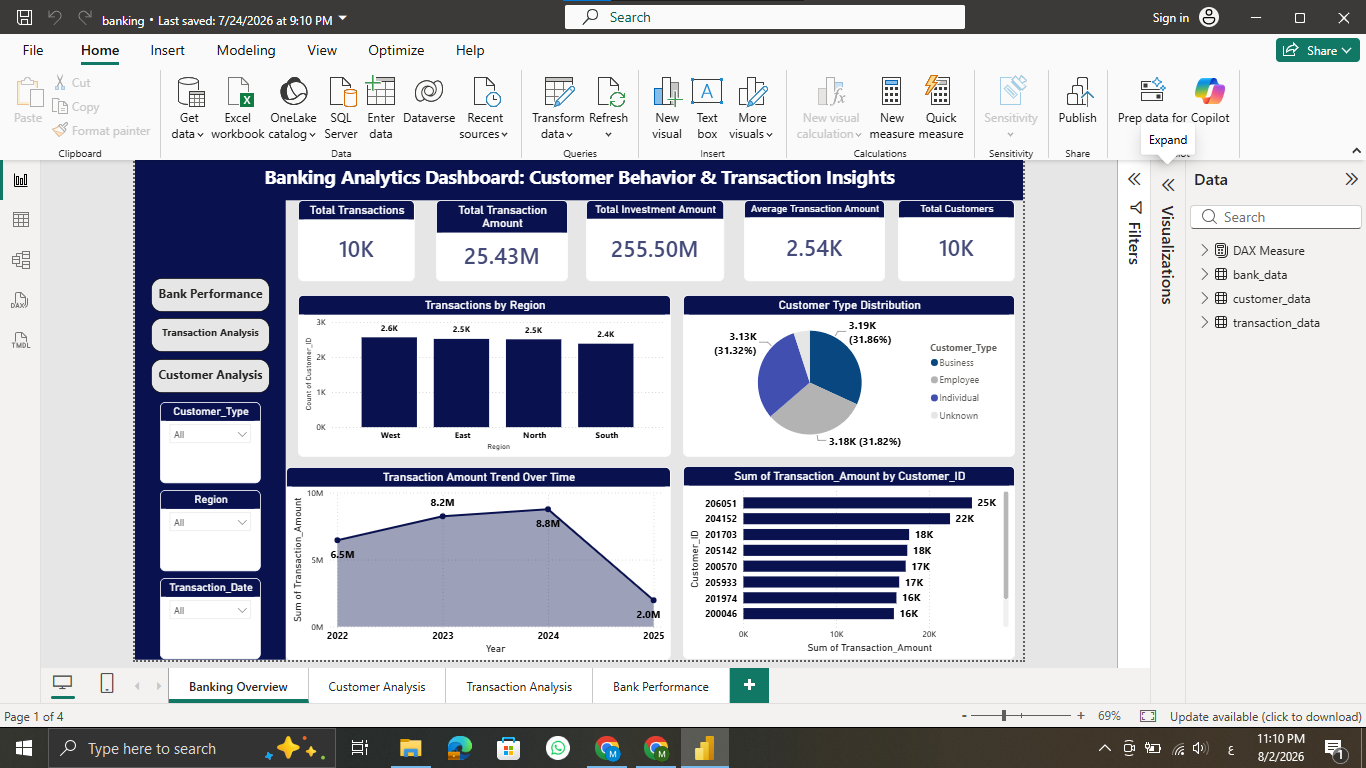

This screenshot's page, from the dashboard's own definition file:
{"tool":"powerbi","page":{"name":"Banking Overview","canvas":[1280,720],"ordinal":0},"visuals":[{"type":"textbox","box":[0,57.6,217.4,662.4],"z":0},{"type":"textbox","box":[0,0,1280.2,57.6],"z":1000},{"type":"cardVisual","title":"Total Transactions","fields":{"Data":["DAX Measure.Total Transactions"]},"box":[234.7,57.6,168.5,116.6],"z":2000},{"type":"cardVisual","title":"Total Customers","fields":{"Data":["DAX Measure.Total Customers"]},"box":[1098.7,57.6,168.5,116.6],"z":3000},{"type":"cardVisual","title":"Total Transaction Amount","fields":{"Data":["DAX Measure.Total Transaction Amount"]},"box":[433.4,57.6,190.1,116.6],"z":4000},{"type":"cardVisual","title":"Total Investment Amount","fields":{"Data":["DAX Measure.Total Investment Amount"]},"box":[649.4,57.6,198.7,116.6],"z":5000},{"type":"cardVisual","title":"Average Transaction Amount","fields":{"Data":["DAX Measure.Average Transaction Amount"]},"box":[877,57.6,203,116.6],"z":6000},{"type":"columnChart","title":"Transactions by Region","fields":{"Y":["CountNonNull(customer_data.Customer_ID)"],"Category":["customer_data.Region"]},"box":[234.7,194.4,537.1,233.3],"z":7000},{"type":"lineChart","title":"Transaction Amount Trend Over Time","fields":{"Category":["transaction_data.Transaction_Date.Variation.Date Hierarchy.Year","transaction_data.Transaction_Date.Variation.Date Hierarchy.Month","transaction_data.Transaction_Date.Variation.Date Hierarchy.Day"],"Y":["Sum(transaction_data.Transaction_Amount)"]},"box":[217.4,442.1,554.4,277.9],"z":8000},{"type":"pieChart","title":"Customer Type Distribution","fields":{"Category":["customer_data.Customer_Type"],"Y":["CountNonNull(customer_data.Customer_ID)"]},"box":[789.1,194.4,478.1,233.3],"z":9000},{"type":"barChart","fields":{"Category":["transaction_data.Customer_ID"],"Y":["Sum(transaction_data.Transaction_Amount)"]},"box":[789.1,440.6,478.1,277.9],"z":10000},{"type":"slicer","title":"Transaction_Date","fields":{"Values":["transaction_data.Transaction_Date"]},"box":[36,601.9,145.4,116.6],"z":10001},{"type":"slicer","title":"Region","fields":{"Values":["bank_data.Region"]},"box":[36,475.2,145.4,116.6],"z":10002},{"type":"slicer","title":"Customer_Type","fields":{"Values":["customer_data.Customer_Type"]},"box":[36,348.5,145.4,116.6],"z":10003},{"type":"actionButton","box":[23,169.9,171.4,49],"z":10005},{"type":"actionButton","box":[23,227.5,171.4,49],"z":10006},{"type":"actionButton","box":[23,286.6,171.4,49],"z":10007}]}

Visuals, with their boxes on the page's 1280x720 design canvas (x1, y1, x2, y2). These are canvas units, not pixel positions in the 1366x768 screenshot, which may show the page scaled, cropped or inside an application window:
textbox: region(0, 58, 217, 720)
textbox: region(0, 0, 1280, 58)
"Total Transactions" cardVisual: region(235, 58, 403, 174)
"Total Customers" cardVisual: region(1099, 58, 1267, 174)
"Total Transaction Amount" cardVisual: region(433, 58, 624, 174)
"Total Investment Amount" cardVisual: region(649, 58, 848, 174)
"Average Transaction Amount" cardVisual: region(877, 58, 1080, 174)
"Transactions by Region" columnChart: region(235, 194, 772, 428)
"Transaction Amount Trend Over Time" lineChart: region(217, 442, 772, 720)
"Customer Type Distribution" pieChart: region(789, 194, 1267, 428)
barChart - transaction_data.Customer_ID x Sum(transaction_data.Transaction_Amount): region(789, 441, 1267, 718)
"Transaction_Date" slicer: region(36, 602, 181, 718)
"Region" slicer: region(36, 475, 181, 592)
"Customer_Type" slicer: region(36, 348, 181, 465)
actionButton: region(23, 170, 194, 219)
actionButton: region(23, 228, 194, 276)
actionButton: region(23, 287, 194, 336)
